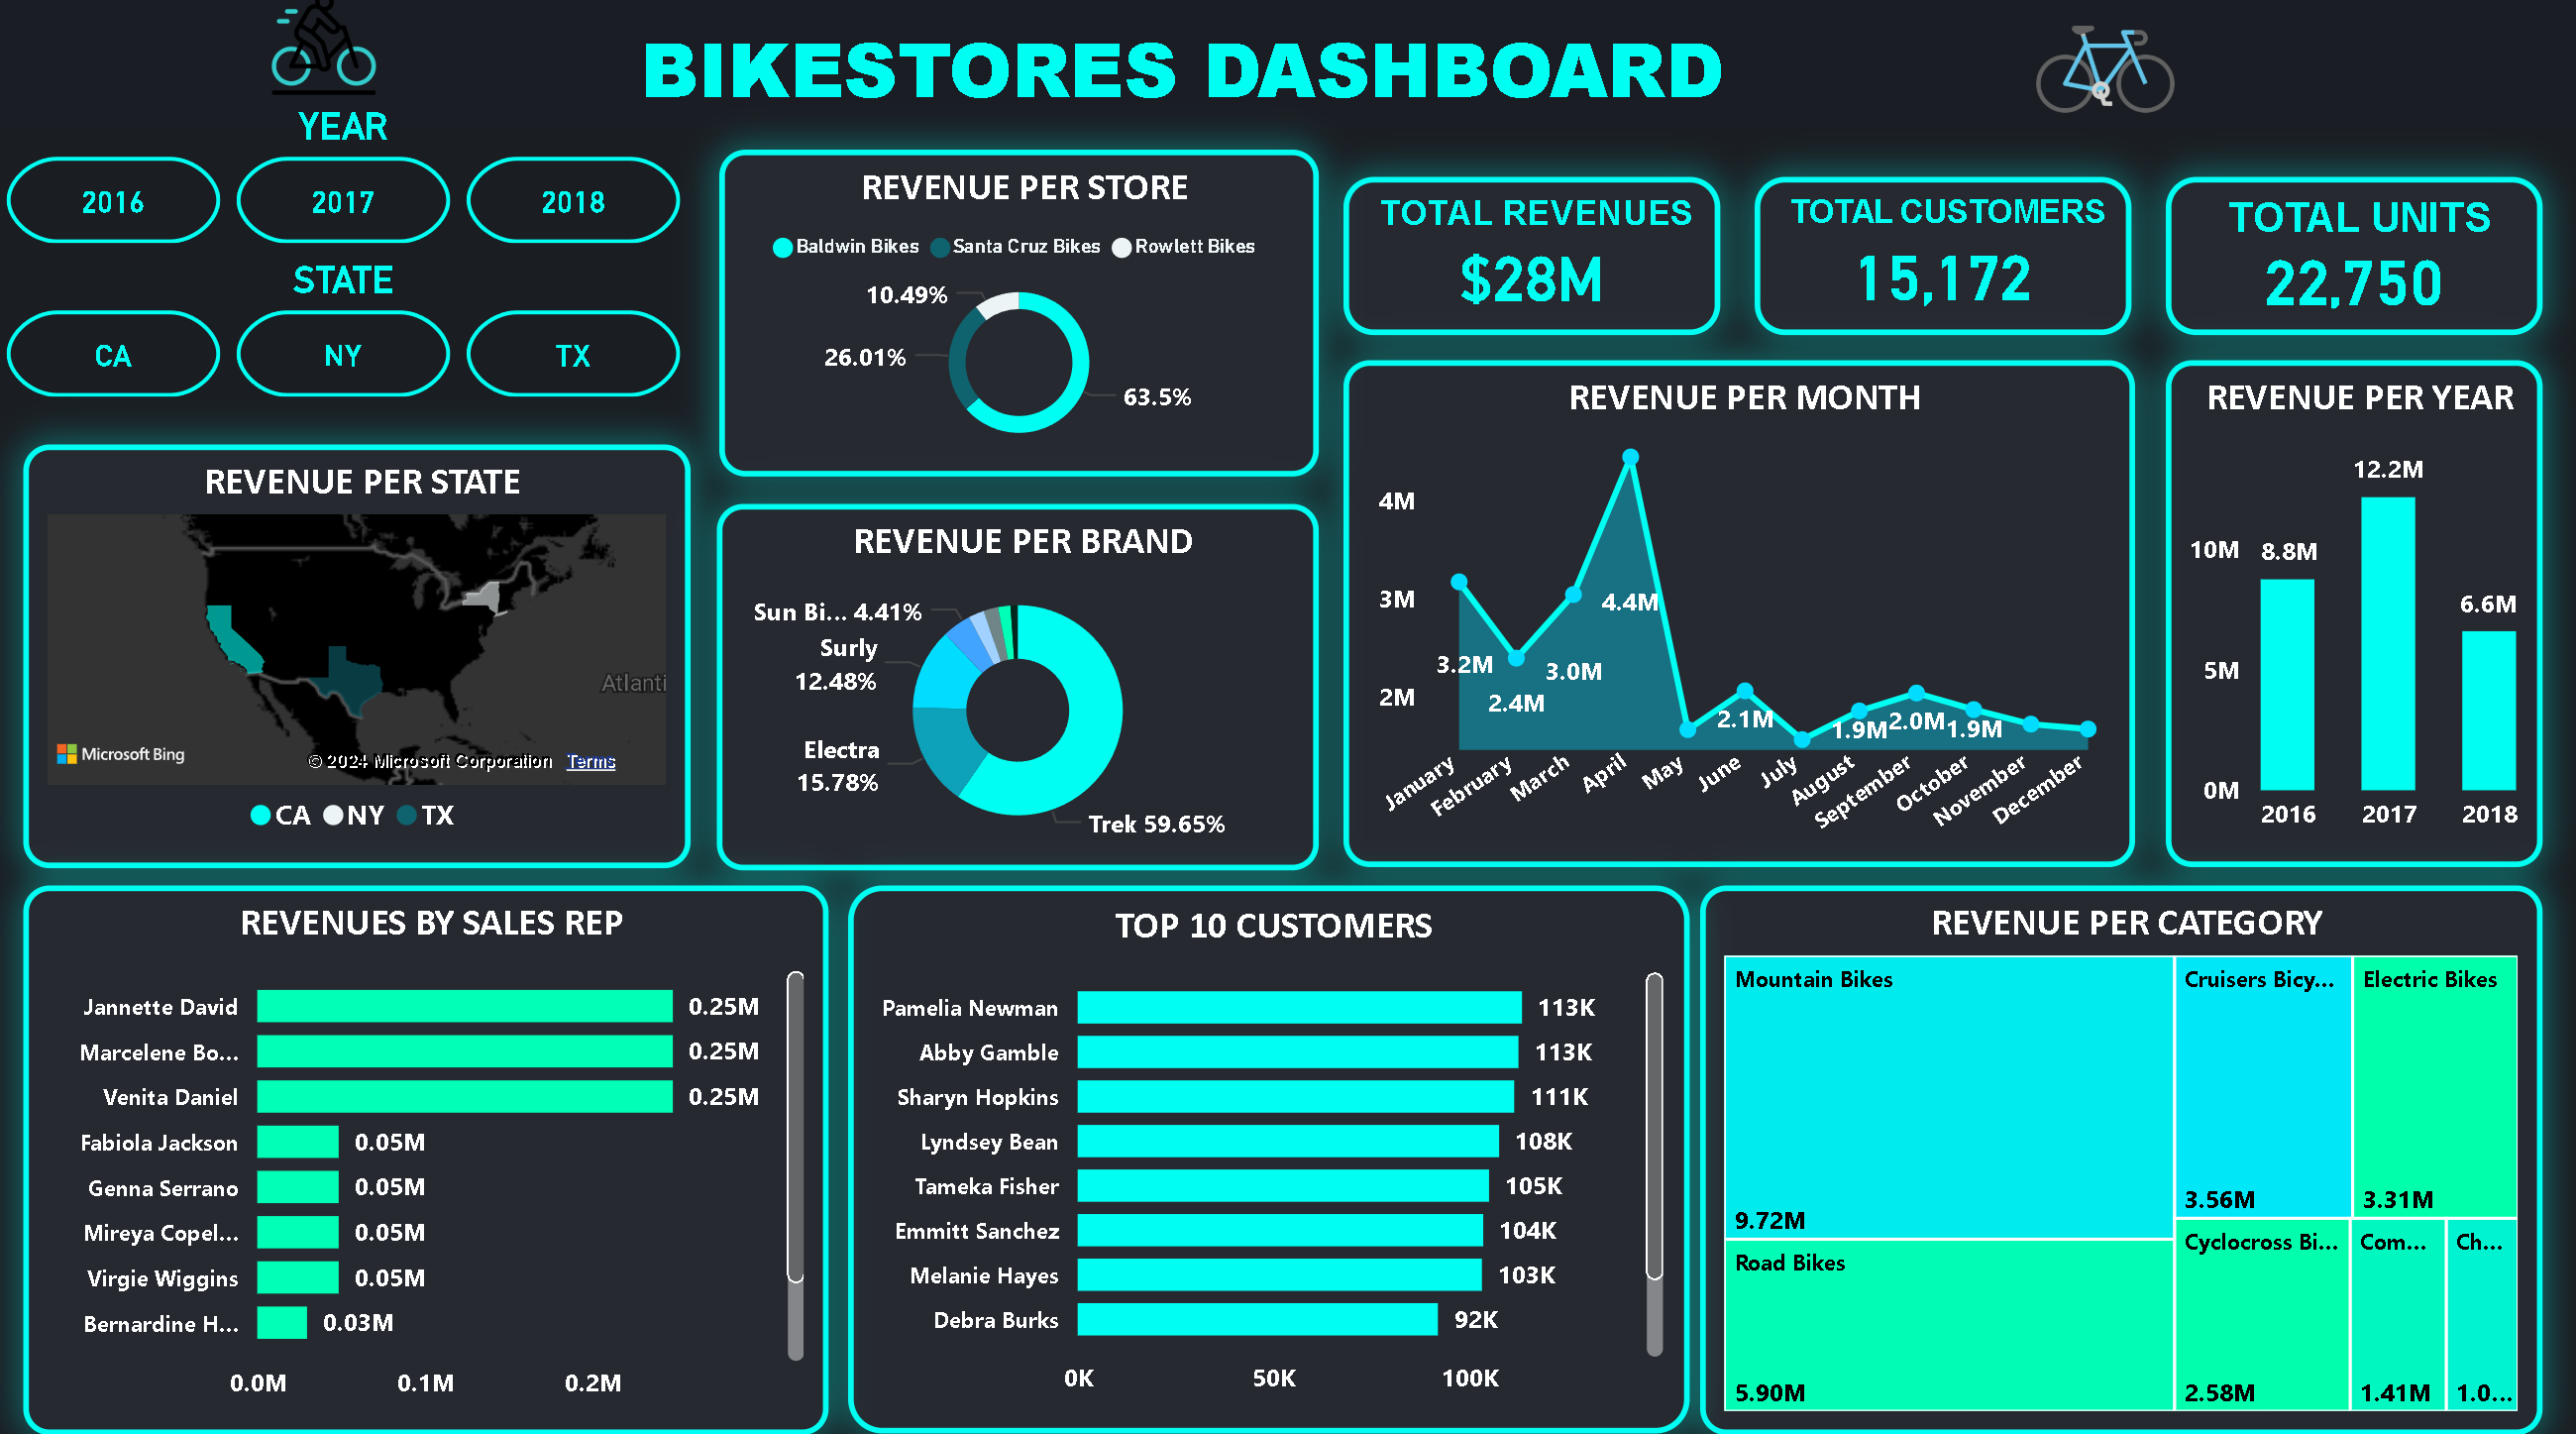

Layout of this report page (visuals, bound fields, positions):
{"tool":"powerbi","page":{"name":"Dashboard","canvas":[1280,720],"ordinal":0},"visuals":[{"type":"card","title":"TOTAL UNITS","fields":{"Values":["Data_1.total_units"]},"box":[1075.8,96.5,186.6,78.2],"z":0},{"type":"shape","box":[0,0,1280.3,74.1],"z":1000},{"type":"textbox","box":[286.8,11,601,63.1],"z":2000},{"type":"advancedSlicerVisual","title":"YEAR","fields":{"Values":["Data_1.order_date.Variation.Date Hierarchy.Year"]},"box":[0,61.7,344.4,74.1],"z":4000},{"type":"card","title":"TOTAL CUSTOMERS","fields":{"Values":["Data_1.customer_name"]},"box":[872,96.5,186.6,78.2],"z":5000},{"type":"card","title":"TOTAL REVENUES","fields":{"Values":["Data_1.revenue"]},"box":[668.3,96.5,186.6,78.2],"z":6000},{"type":"columnChart","title":"REVENUE PER YEAR","fields":{"Y":["Data_1.revenue"],"Category":["Data_1.order_date.Variation.Date Hierarchy.Year"]},"box":[1075.8,188,186.6,251.1],"z":7000},{"type":"stackedAreaChart","title":"REVENUE PER MONTH","fields":{"Category":["Data_1.order_date.Variation.Date Hierarchy.Month"],"Y":["Data_1.revenue"]},"box":[668.3,188,392.5,251.1],"z":8000},{"type":"donutChart","title":"REVENUE PER STORE","fields":{"Y":["Data_1.revenue"],"Category":["Data_1.store_name"]},"box":[358.5,83.5,297.1,162.1],"z":9000},{"type":"filledMap","title":"REVENUE PER STATE","fields":{"Category":["Data_1.state"],"Series":["Data_1.state"]},"box":[13.7,229.2,330.7,209.9],"z":10000},{"type":"pieChart","title":"REVENUE PER BRAND","fields":{"Y":["Data_1.revenue"],"Category":["Data_1.brand_name"]},"box":[357.3,259.1,298.4,181.7],"z":11000},{"type":"treemap","title":"REVENUE PER CATEGORY","fields":{"Group":["Data_1.category_name"],"Values":["Data_1.revenue"]},"box":[844.8,448.2,417.5,272.6],"z":12000},{"type":"clusteredBarChart","title":"TOP 10 CUSTOMERS","fields":{"Y":["Data_1.revenue"],"Category":["Data_1.customer_name"]},"box":[422.6,448.3,417.2,271.7],"z":13000},{"type":"clusteredBarChart","title":"REVENUES BY SALES REP","fields":{"Y":["Data_1.revenue"],"Category":["Data_1.Sales_rep"]},"box":[13.5,448.2,399.1,272.6],"z":14000},{"type":"advancedSlicerVisual","title":"STATE","fields":{"Values":["Data_1.state"]},"box":[0,137.2,344.4,74.1],"z":14001},{"type":"image","box":[887.8,2.7,318.4,81],"z":14002},{"type":"image","box":[13.7,0,297.8,61.7],"z":14003}]}

Visuals, with their boxes in screenshot pixels (x1, y1, x2, y2), scaled from the page's 1280x720 canvas onto the 2576x1434 screenshot:
"TOTAL UNITS" card: pyautogui.locateOnScreen(2165, 192, 2540, 348)
shape: pyautogui.locateOnScreen(0, 0, 2575, 148)
textbox: pyautogui.locateOnScreen(578, 22, 1786, 148)
"YEAR" advancedSlicerVisual: pyautogui.locateOnScreen(0, 123, 694, 271)
"TOTAL CUSTOMERS" card: pyautogui.locateOnScreen(1755, 192, 2130, 348)
"TOTAL REVENUES" card: pyautogui.locateOnScreen(1344, 192, 1721, 348)
"REVENUE PER YEAR" columnChart: pyautogui.locateOnScreen(2165, 375, 2540, 874)
"REVENUE PER MONTH" stackedAreaChart: pyautogui.locateOnScreen(1344, 375, 2135, 874)
"REVENUE PER STORE" donutChart: pyautogui.locateOnScreen(721, 166, 1320, 490)
"REVENUE PER STATE" filledMap: pyautogui.locateOnScreen(28, 457, 694, 874)
"REVENUE PER BRAND" pieChart: pyautogui.locateOnScreen(719, 516, 1320, 878)
"REVENUE PER CATEGORY" treemap: pyautogui.locateOnScreen(1700, 893, 2540, 1433)
"TOP 10 CUSTOMERS" clusteredBarChart: pyautogui.locateOnScreen(850, 893, 1690, 1433)
"REVENUES BY SALES REP" clusteredBarChart: pyautogui.locateOnScreen(27, 893, 830, 1433)
"STATE" advancedSlicerVisual: pyautogui.locateOnScreen(0, 274, 694, 421)
image: pyautogui.locateOnScreen(1786, 5, 2427, 166)
image: pyautogui.locateOnScreen(28, 0, 627, 123)
